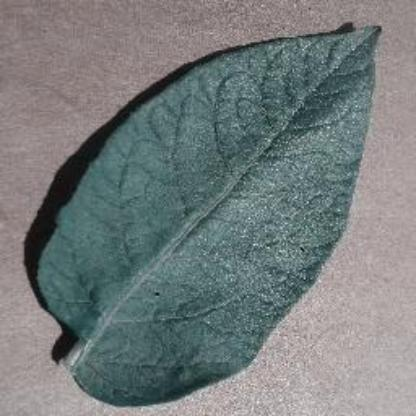Healthy-plant: (28, 22, 397, 408)
